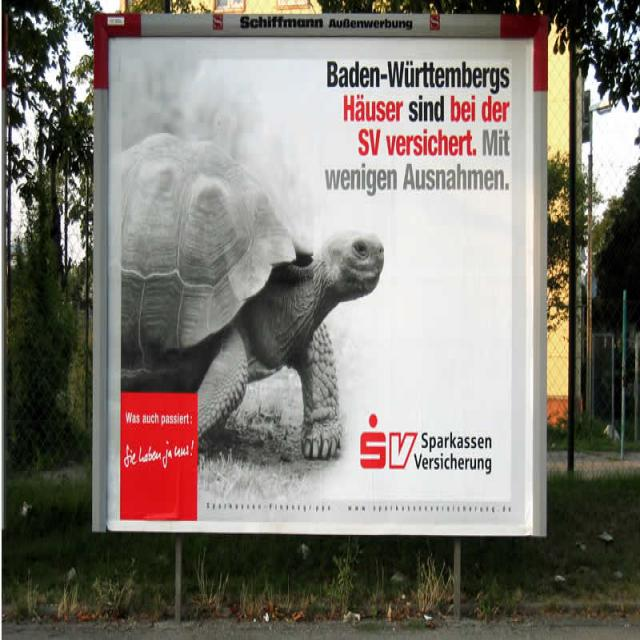Werbetafel frei: (85, 5, 559, 562)
